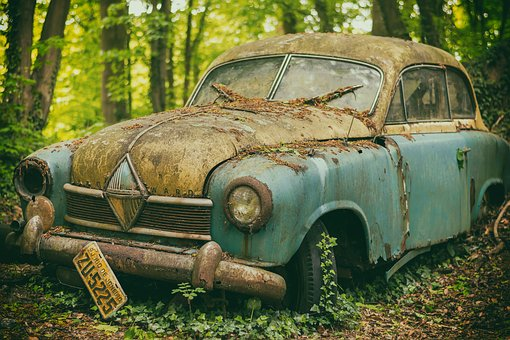rust: (16, 226, 301, 302), (63, 181, 220, 225), (219, 179, 282, 225), (11, 158, 59, 194)
